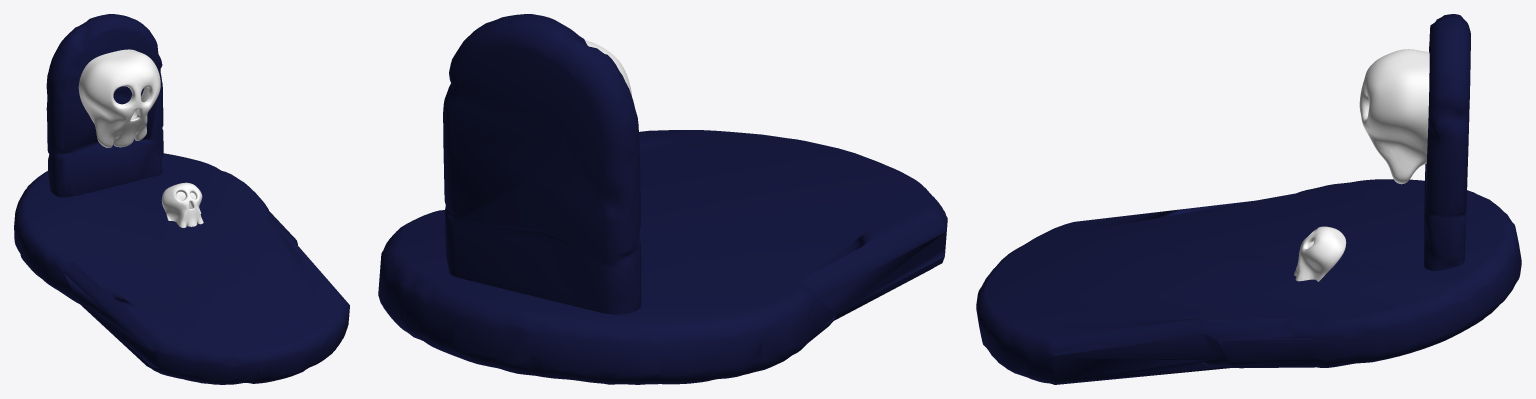
File: grave-21.glb
3 views of the same model, side by side, from view 1: azimuth 30°, elevation 25°; view 2: azimuth 150°, elevation 25°; view 3: azimuth 270°, elevation 25° (orthographic). The views are drawn at different scales.
Visible parts, largest first — view 1: Cube.109; view 2: Cube.109; view 3: Cube.109.
Part boxes in pixels (bbox=[...]): Cube.109: bbox=[14, 14, 349, 384]; Cube.109: bbox=[378, 14, 947, 384]; Cube.109: bbox=[976, 14, 1521, 384].
Size of the model in its own units: 2.26 by 2.27 by 3.54.
